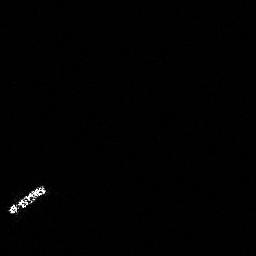ship: (5, 181, 49, 216)
